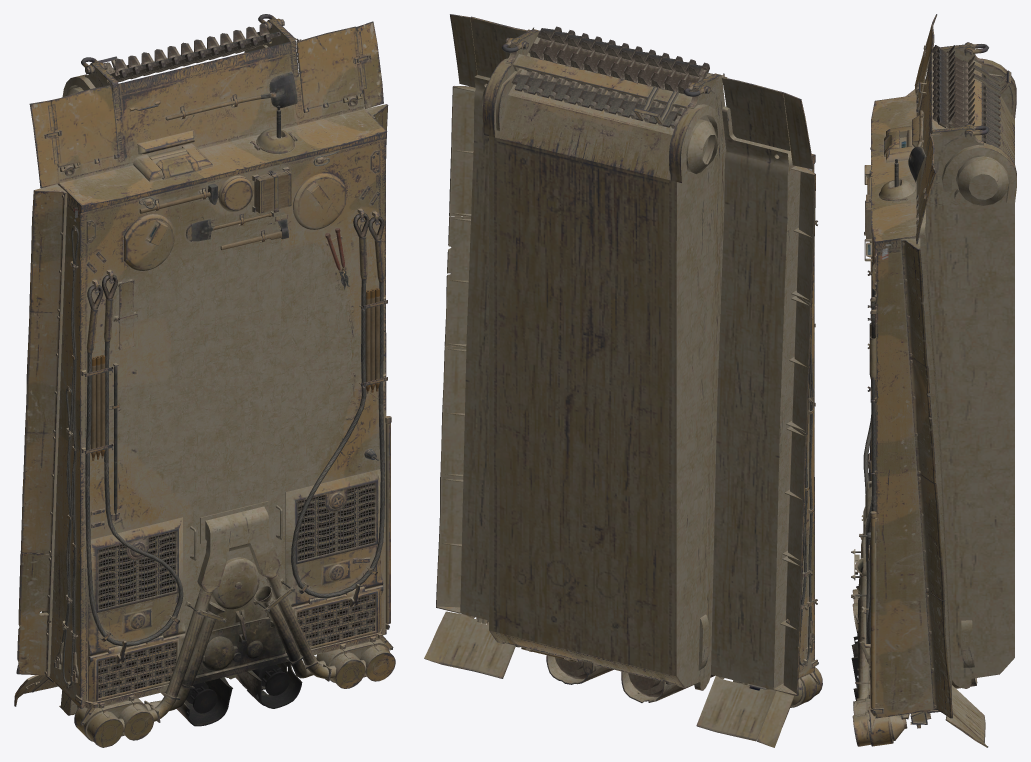
Rendered from Hull.glb.
3 views of the same model, side by side, from view 1: azimuth 30°, elevation 25°; view 2: azimuth 150°, elevation 25°; view 3: azimuth 270°, elevation 25° (orthographic). The views are drawn at different scales.
Parts seen in each view (by area): view 1: set_0_group_0; view 2: set_0_group_0; view 3: set_0_group_0.
Part boxes in pixels (<box>): set_0_group_0: <box>14,14,395,747</box>; set_0_group_0: <box>424,14,822,747</box>; set_0_group_0: <box>851,14,1016,747</box>.
Size of the model in its own units: 3.71 by 6.39 by 1.59.
Materials: 1 (1 with a texture image).
